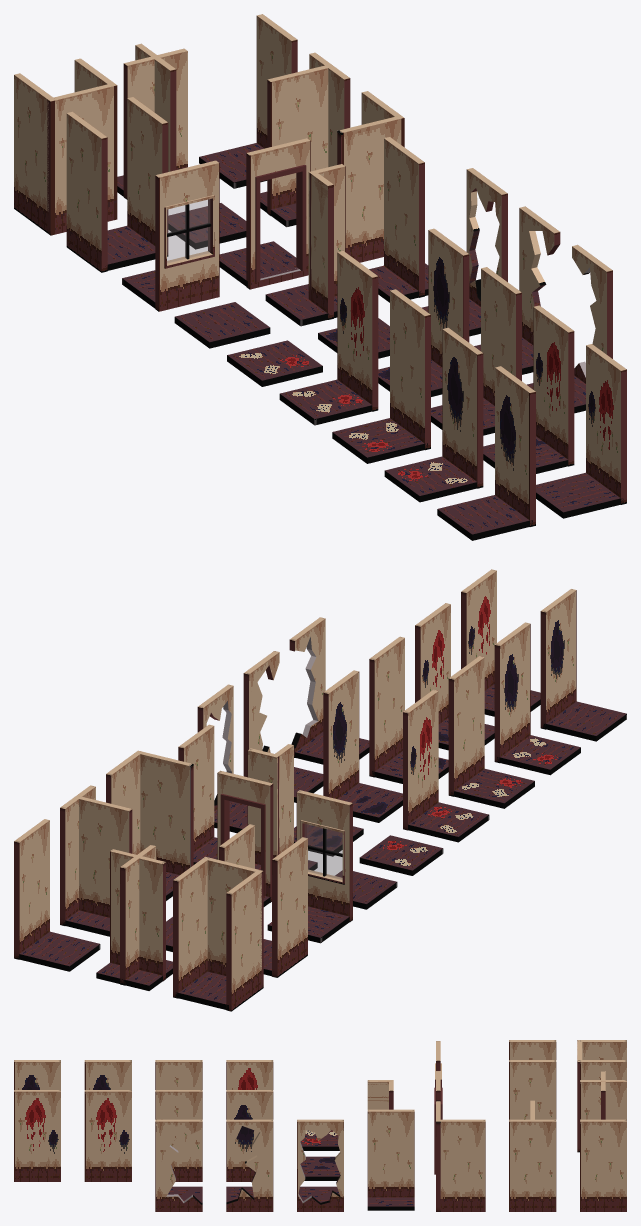
File: MotelTileset.glb
3 renders of one model, top to bottom at view 1: azimuth 30°, elevation 25°; view 2: azimuth 150°, elevation 25°; view 3: azimuth 270°, elevation 25°, orthographic. The views are drawn at different scales.
Visible parts, largest first — view 1: Small Hall, Small Hall End, Window, T Junction, Blood Wall 3, Hole Wall 2, Wall 3, Hole Wall 1, Blood Wall 1, Door Outer, Corner, Inner Wall (+13 smaller); view 2: Small Hall End, Four Way, Corner, T Junction, Window, Hole Wall 2, Wall 3, Hole Wall 1, Blood Wall 3, Wall 1, Small Hall, Hole Wall 3 (+12 smaller); view 3: Inner Wall, Corner, T Junction, Blood Wall 2, Wall 1, Blood Wall 1, Small Hall, Big Hole 2, Big Hole 1, Wall 2, Hole Wall 3, Small Hole (+10 smaller).
Boxes of the visible parts, bbox=[...] form: Small Hall: bbox=[66, 97, 168, 272]; Small Hall End: bbox=[14, 58, 117, 235]; Window: bbox=[122, 160, 219, 311]; T Junction: bbox=[260, 52, 350, 227]; Blood Wall 3: bbox=[279, 250, 378, 425]; Hole Wall 2: bbox=[384, 327, 483, 502]; Wall 3: bbox=[332, 289, 430, 463]; Hole Wall 1: bbox=[437, 366, 535, 540]; Blood Wall 1: bbox=[536, 344, 626, 518]; Door Outer: bbox=[219, 138, 310, 289]; Corner: bbox=[337, 91, 404, 262]; Inner Wall: bbox=[369, 137, 428, 302]; Small Hall End: bbox=[173, 856, 263, 1011]; Four Way: bbox=[96, 845, 172, 990]; Corner: bbox=[106, 750, 193, 900]; T Junction: bbox=[60, 785, 132, 936]; Window: bbox=[267, 790, 352, 943]; Hole Wall 2: bbox=[494, 622, 580, 775]; Wall 3: bbox=[448, 656, 534, 808]; Hole Wall 1: bbox=[540, 589, 626, 741]; Blood Wall 3: bbox=[403, 689, 489, 842]; Wall 1: bbox=[14, 819, 100, 971]; Small Hall: bbox=[219, 824, 307, 977]; Hole Wall 3: bbox=[323, 670, 402, 822]; Inner Wall: bbox=[367, 1109, 414, 1210]; Corner: bbox=[436, 1100, 485, 1211]; T Junction: bbox=[509, 1100, 556, 1211]; Blood Wall 2: bbox=[84, 1090, 131, 1181]; Wall 1: bbox=[580, 1119, 626, 1211]; Blood Wall 1: bbox=[14, 1090, 60, 1181]; Small Hall: bbox=[509, 1040, 556, 1119]; Big Hole 2: bbox=[226, 1119, 273, 1211]; Big Hole 1: bbox=[155, 1119, 202, 1211]; Wall 2: bbox=[155, 1090, 202, 1181]; Hole Wall 3: bbox=[226, 1090, 273, 1181]; Small Hole: bbox=[297, 1119, 343, 1211].
Bounding box in the file's own units: 8.2 × 4.22 × 26.
Materials: 28 (27 with a texture image).
